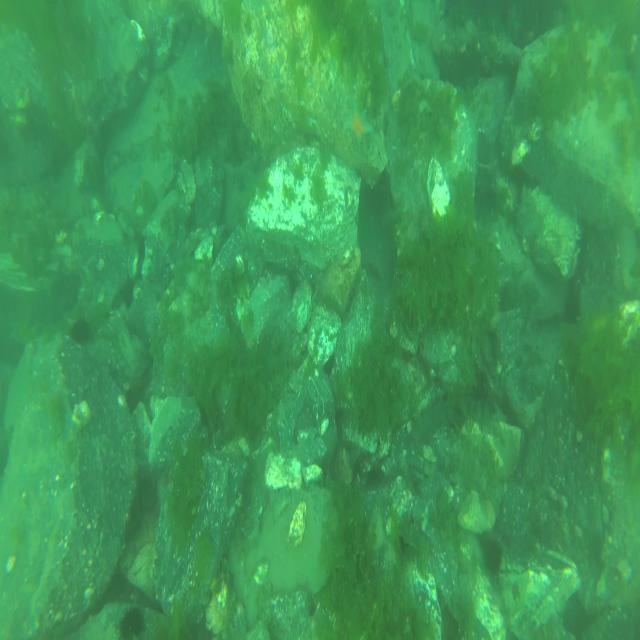echinus: (483, 534, 506, 582), (118, 606, 146, 640), (69, 316, 91, 346)
starfish: (345, 102, 372, 148)
